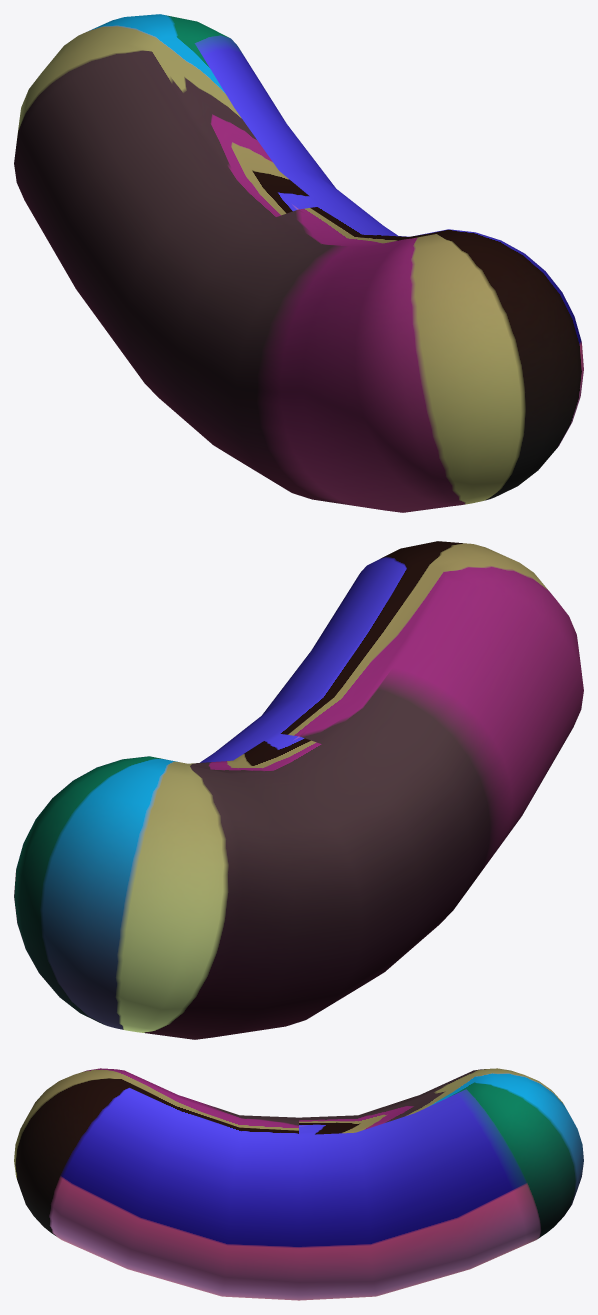
The model's file is bean.fbx.
3 views of the same model, one above another, from view 1: azimuth 30°, elevation 25°; view 2: azimuth 150°, elevation 25°; view 3: azimuth 270°, elevation 25° (orthographic). The views are drawn at different scales.
Visible parts, largest first — view 1: bean; view 2: bean; view 3: bean.
Part boxes in pixels (bbox=[...]): bean: bbox=[14, 14, 583, 512]; bean: bbox=[14, 541, 583, 1039]; bean: bbox=[14, 1068, 583, 1300].
Bounding box in the file's own units: 200 × 260 × 623.
1 material, 1 textured.
